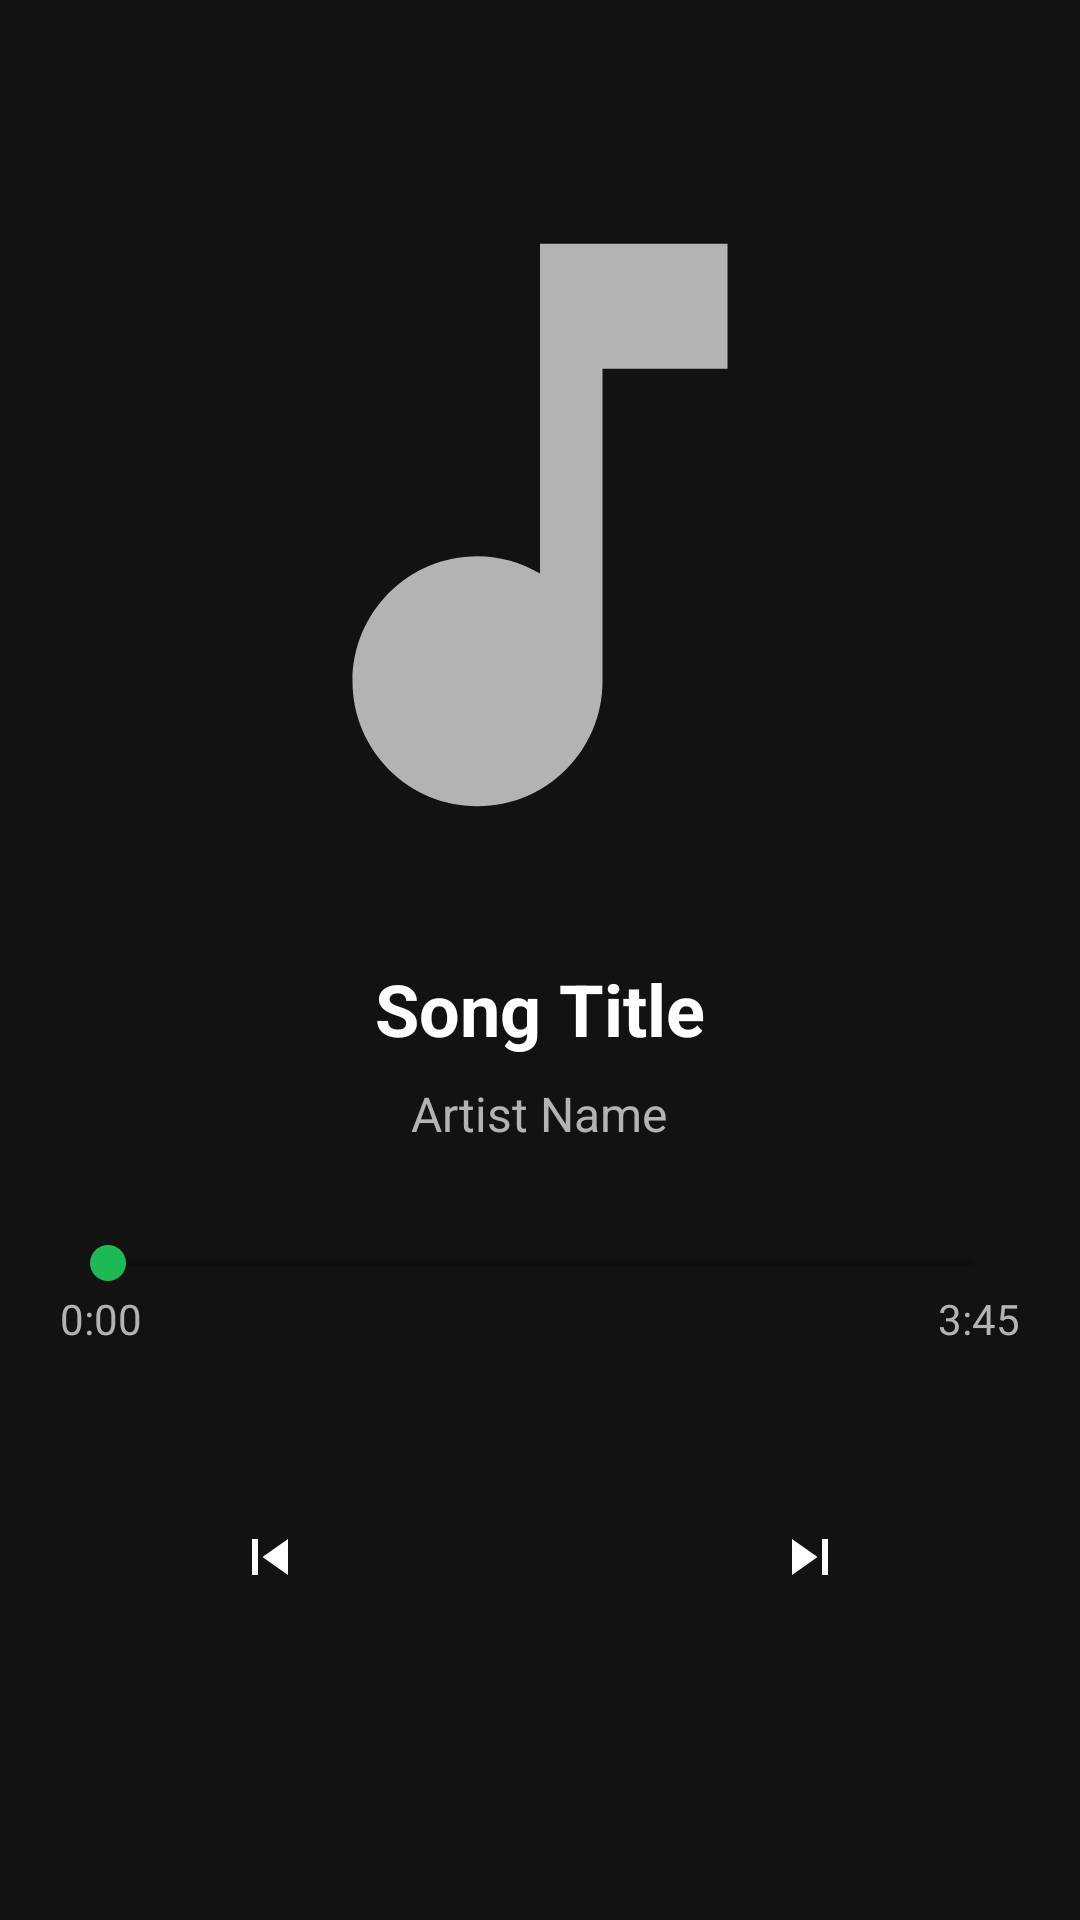

Icon bounding boxes for this 1080x1920 phone screenshot, format (x1, y1, x2, y2):
next: (792, 1539, 828, 1575)
previous: (252, 1539, 288, 1575)
